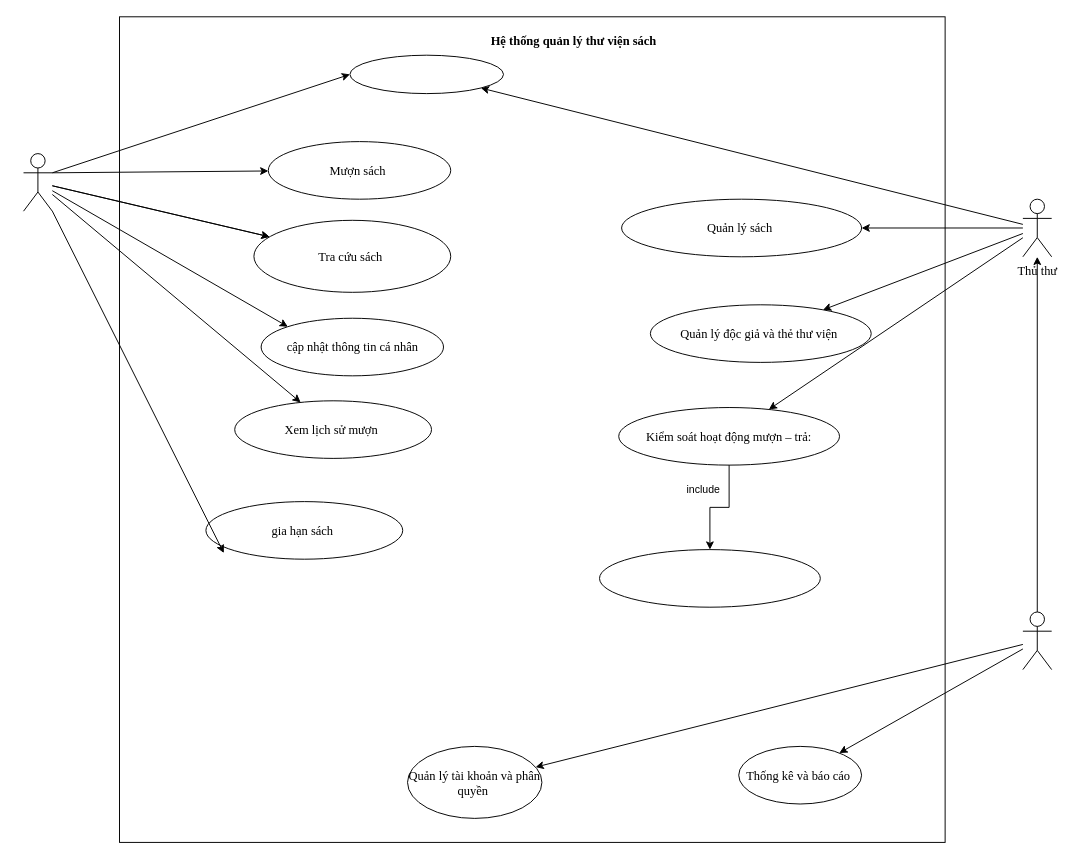
The diagram is 1073 pixels wide and 859 high, and some of its shapes have lost their labels. Here are the shapes that lost their labels. From the top down, the box of each, then its label:
(349, 54, 504, 94): Đăng nhập
(23, 153, 52, 211): Độc giả
(599, 549, 820, 607): Tính tiền phật trả trễ
(1022, 611, 1052, 670): QTV
